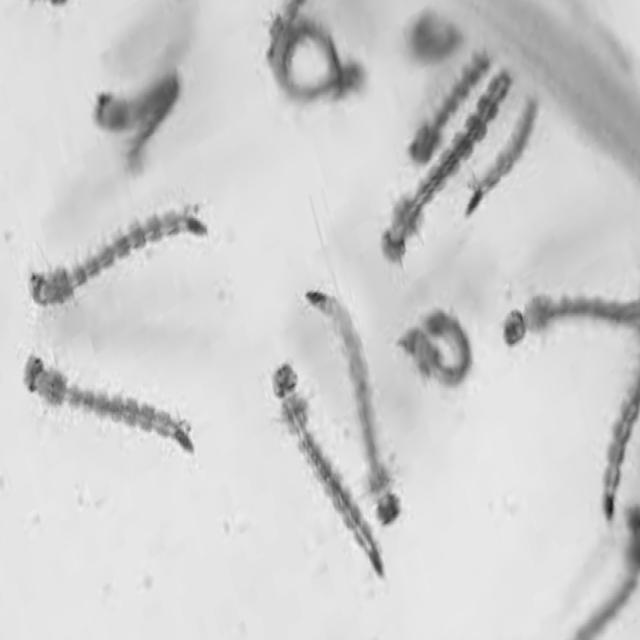larvas: (301, 269, 408, 528), (377, 69, 516, 264), (267, 358, 388, 580), (28, 350, 192, 460), (32, 201, 204, 304), (407, 43, 498, 166), (460, 97, 541, 216), (580, 504, 640, 640), (503, 292, 639, 342), (269, 22, 353, 95), (97, 74, 177, 150), (402, 309, 470, 382), (604, 376, 636, 511), (408, 22, 459, 59)
